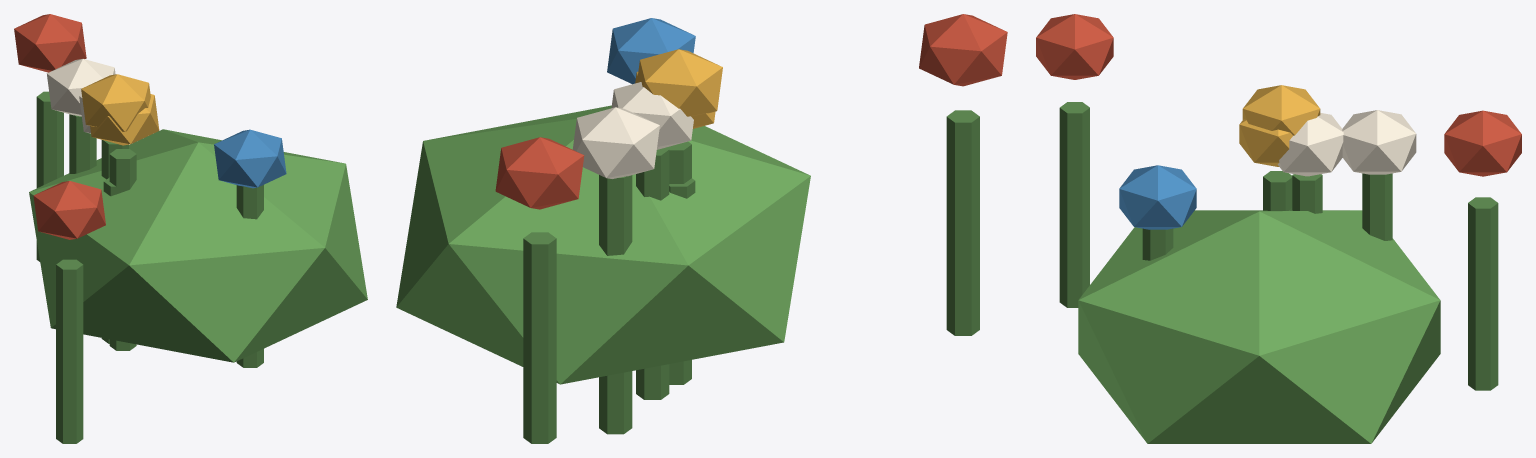
Rendered from flowers.glb.
The picture shows the model from 3 angles, left to right: view 1: azimuth 30°, elevation 25°; view 2: azimuth 150°, elevation 25°; view 3: azimuth 270°, elevation 25°; orthographic projection. The views are drawn at different scales.
Visible parts, largest first — view 1: fl_bush, fl_stem4, fl_head4, fl_head3, fl_head0, fl_head1, fl_stem0, fl_head2, fl_head5, fl_stem2, fl_stem5, fl_stem3 (+1 smaller); view 2: fl_bush, fl_stem4, fl_stem0, fl_head0, fl_head4, fl_head2, fl_stem2, fl_head1, fl_head3, fl_head6, fl_stem6, fl_stem5; view 3: fl_bush, fl_stem4, fl_stem0, fl_head0, fl_head4, fl_head3, fl_head2, fl_head6, fl_head1, fl_stem2, fl_head5, fl_stem5 (+2 smaller).
Part boxes in pixels (bbox=[...]): fl_bush: bbox=[29, 129, 367, 362]; fl_stem4: bbox=[56, 259, 83, 443]; fl_head4: bbox=[33, 181, 105, 239]; fl_head3: bbox=[214, 129, 286, 188]; fl_head0: bbox=[14, 14, 86, 72]; fl_head1: bbox=[81, 74, 150, 131]; fl_stem0: bbox=[36, 91, 63, 261]; fl_head2: bbox=[46, 59, 115, 116]; fl_head5: bbox=[90, 94, 159, 145]; fl_stem2: bbox=[69, 114, 96, 173]; fl_stem5: bbox=[109, 149, 136, 350]; fl_stem3: bbox=[236, 185, 263, 367]; fl_bush: bbox=[396, 105, 810, 384]; fl_stem4: bbox=[946, 110, 979, 335]; fl_stem0: bbox=[523, 232, 556, 443]; fl_head0: bbox=[495, 137, 584, 209]; fl_head4: bbox=[919, 14, 1007, 86]; fl_head2: bbox=[572, 107, 659, 178]; fl_stem2: bbox=[599, 175, 632, 434]; fl_head1: bbox=[637, 49, 722, 116]; fl_head3: bbox=[607, 18, 695, 84]; fl_head6: bbox=[611, 82, 693, 149]; fl_stem6: bbox=[636, 147, 669, 399]; fl_stem5: bbox=[666, 141, 691, 384]; fl_bush: bbox=[1078, 210, 1440, 443]; fl_stem4: bbox=[1059, 102, 1089, 307]; fl_stem0: bbox=[1468, 197, 1498, 390]; fl_head0: bbox=[1444, 110, 1521, 176]; fl_head4: bbox=[1036, 14, 1113, 79]; fl_head3: bbox=[1119, 165, 1196, 229]; fl_head2: bbox=[1342, 110, 1416, 174]; fl_head6: bbox=[1277, 113, 1343, 176]; fl_head1: bbox=[1242, 85, 1320, 135]; fl_stem2: bbox=[1362, 173, 1392, 240]; fl_head5: bbox=[1239, 119, 1292, 166]; fl_stem5: bbox=[1263, 171, 1292, 210].
Size of the model in its own units: 0.6627 by 0.463 by 0.6391.
